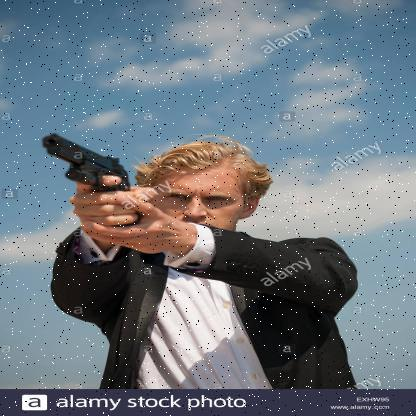pistol: (37, 130, 146, 229)
